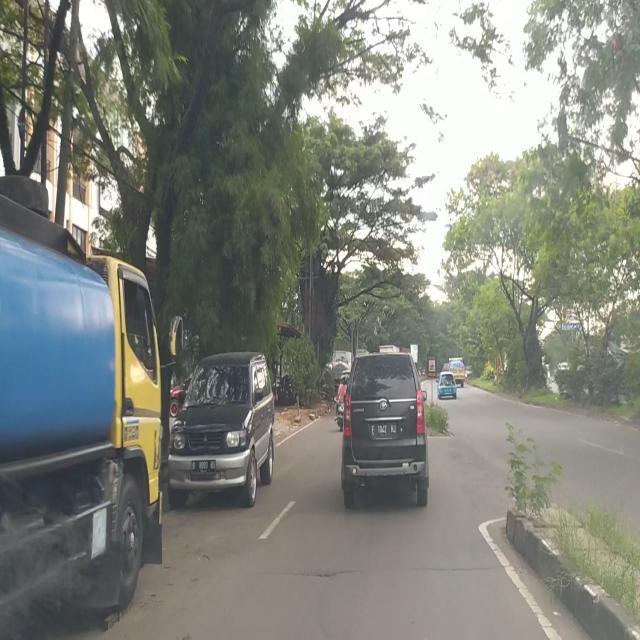Sewer Cover: (255, 561, 501, 577)
